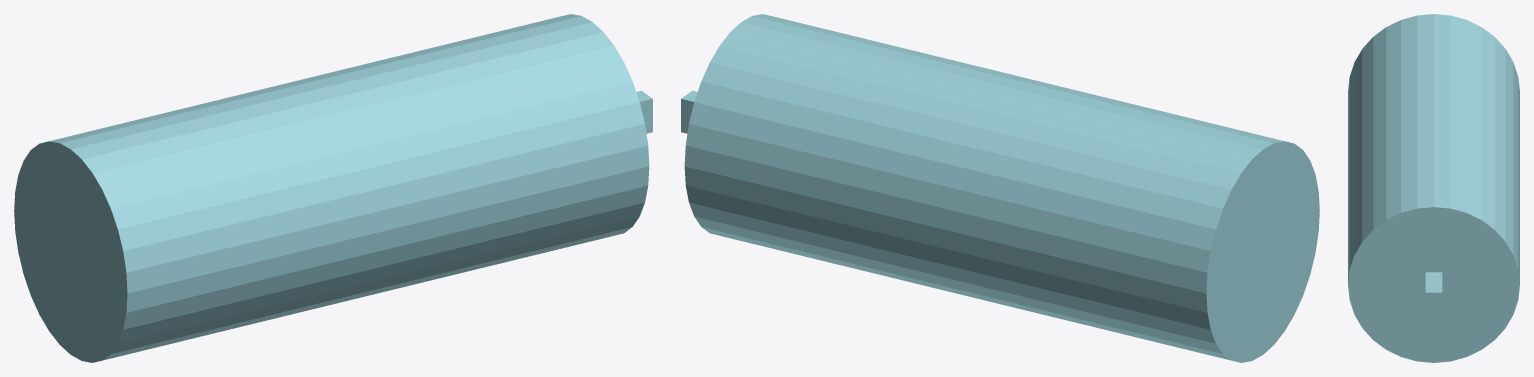
Rendered from cylinder_marker_v4006.obj.
3 views of the same model, side by side, from view 1: azimuth 30°, elevation 25°; view 2: azimuth 150°, elevation 25°; view 3: azimuth 270°, elevation 25° (orthographic). The views are drawn at different scales.
Size of the model in its own units: 0.1655 by 0.0564 by 0.0564.
1 material, 1 textured.
